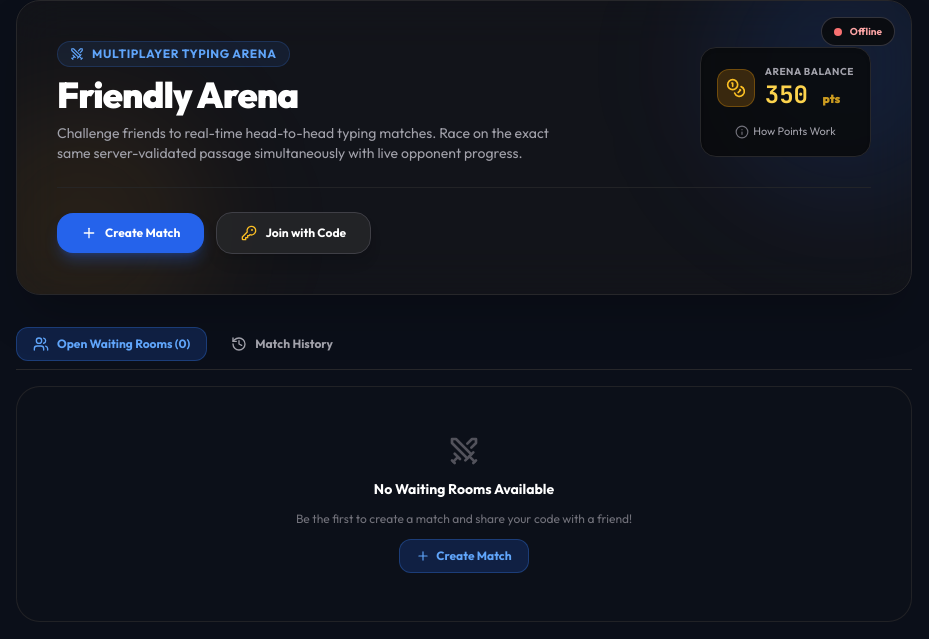
Test case: Frontend Arena Components & UX › ArenaLobby › renders match history records when switching to History tab
Click the button "Match History" at {"x": 282, "y": 344}, box [215, 328, 349, 360]
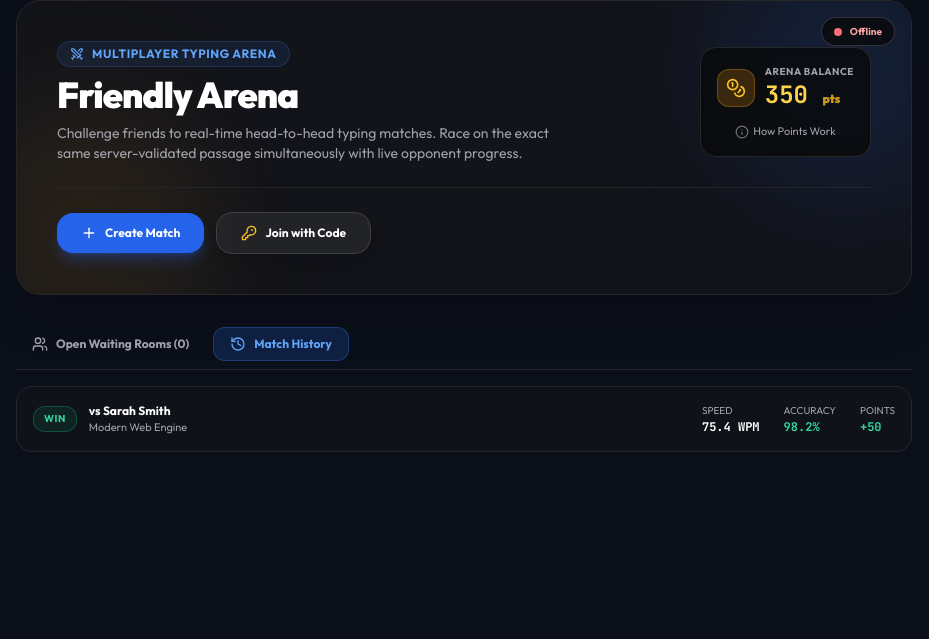
Expected: the text "vs Sarah Smith" is shown, [89, 403, 170, 418]
Expected: the text "75.4 WPM" is shown, [702, 419, 760, 435]
Expected: the text "WIN" is shown, [33, 406, 77, 432]
